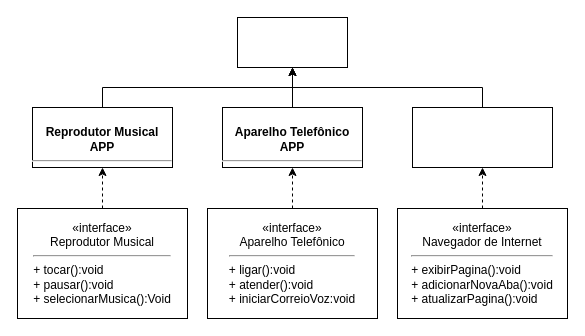
Some shapes in this 585 by 336 pixel diagram are drawn without their labels. Here are the shapes that lost their labels. From the top down, the centre of each, then its label:
At [292,42]: "IPhone".
At [482,137]: "Navegador de Internet APP".
